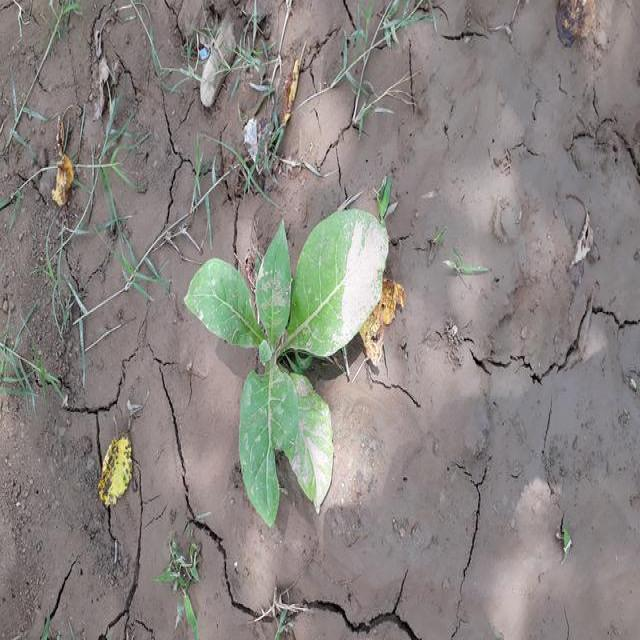crop: (184, 207, 394, 507)
